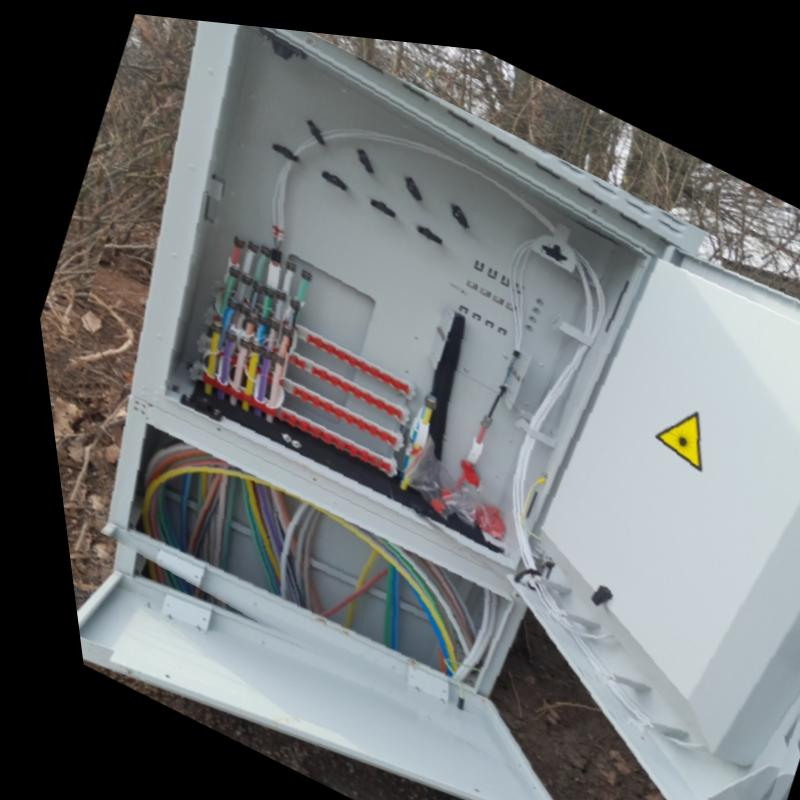NT-Gehause: (92, 15, 800, 800)
